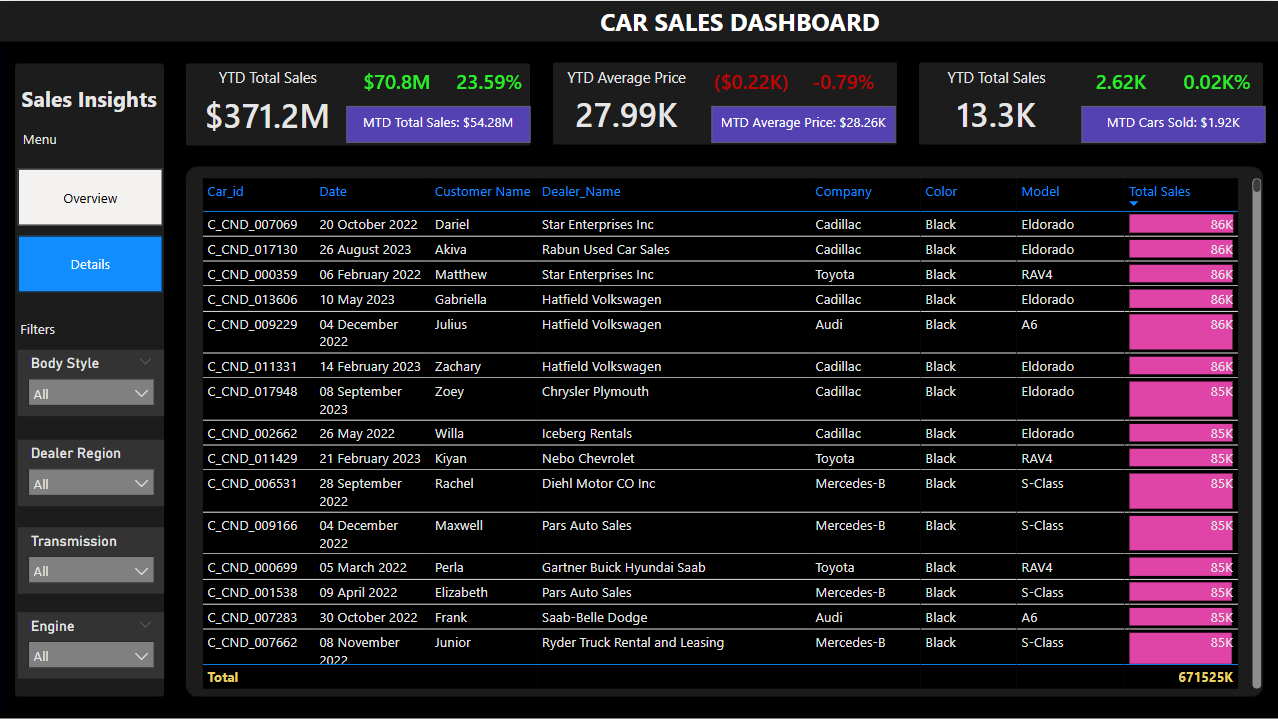

The dashboard page shown, as its layout file describes it:
{"tool":"powerbi","page":{"name":"Details","canvas":[1280,720],"ordinal":1},"visuals":[{"type":"card","title":"YTD Total Sales","fields":{"Values":["car_data.YTD Total Sales"]},"box":[192.2,66.6,152.5,75.6],"z":0},{"type":"card","fields":{"Values":["car_data.Sales Difference"]},"box":[344.6,66.3,106,31.8],"z":1000},{"type":"card","fields":{"Values":["car_data.YOY Sales Growth"]},"box":[450.6,66.3,80.8,31.8],"z":2000},{"type":"card","fields":{"Values":["car_data.MTD KPI"]},"box":[347.2,104.7,184.2,37.1],"z":3000},{"type":"card","title":"YTD Average Price","fields":{"Values":["car_data.YTD Average Price"]},"box":[551.3,66.3,152.4,75.5],"z":4000},{"type":"card","fields":{"Values":["car_data.Average Price Difference"]},"box":[703.8,66.3,96.7,31.8],"z":5000},{"type":"card","fields":{"Values":["car_data.YOY Average Price Growth"]},"box":[791.2,66.3,106,31.8],"z":6000},{"type":"card","fields":{"Values":["car_data.MTD Average Price KPI"]},"box":[713,104.7,184.2,37.1],"z":7000},{"type":"card","title":"YTD Total Sales","fields":{"Values":["car_data.YTD Cars Sold"]},"box":[921.1,66.3,152.4,75.5],"z":8000},{"type":"card","fields":{"Values":["car_data.Cars Sold Difference"]},"box":[1073.5,66.3,96.7,31.8],"z":9000},{"type":"card","fields":{"Values":["car_data.YOY Car sold Growth"]},"box":[1170.3,66.3,96.7,31.8],"z":10000},{"type":"card","fields":{"Values":["car_data.MTD Cars Sold KPI"]},"box":[1082.8,104.7,184.2,37.1],"z":11000},{"type":"textbox","box":[596.8,0,464.8,42.4],"z":12000},{"type":"slicer","fields":{"Values":["car_data.Body Style"]},"box":[18.2,348.6,146.5,66.6],"z":13000},{"type":"slicer","fields":{"Values":["car_data.Dealer_Name"]},"box":[19.4,438.2,146.5,66.6],"z":14000},{"type":"slicer","fields":{"Values":["car_data.Transmission"]},"box":[18.2,526.6,146.5,66.6],"z":15000},{"type":"slicer","fields":{"Values":["car_data.Engine"]},"box":[18.2,611.3,146.5,66.6],"z":16000},{"type":"textbox","box":[15.7,313.5,77.5,35.1],"z":17000},{"type":"tableEx","fields":{"Values":["car_data.Car_id","car_data.Date","car_data.Customer Name","car_data.Dealer_Name","car_data.Company","car_data.Color","car_data.Model","car_data.Total Sales"]},"box":[197.3,171.9,1070.1,520.5],"z":18000},{"type":"textbox","box":[16.9,77.5,168.3,81.1],"z":19000},{"type":"textbox","box":[19.4,123.5,53.3,35.1],"z":20000},{"type":"pageNavigator","box":[18.2,167,145.3,124.7],"z":22000}]}

Visuals, with their boxes in screenshot pixels (x1, y1, x2, y2), scaled from the page's 1280x720 canvas onto the 1278x720 screenshot:
"YTD Total Sales" card: x1=192 y1=67 x2=344 y2=142
card - car_data.Sales Difference: x1=344 y1=66 x2=450 y2=98
card - car_data.YOY Sales Growth: x1=450 y1=66 x2=531 y2=98
card - car_data.MTD KPI: x1=347 y1=105 x2=531 y2=142
"YTD Average Price" card: x1=550 y1=66 x2=703 y2=142
card - car_data.Average Price Difference: x1=703 y1=66 x2=799 y2=98
card - car_data.YOY Average Price Growth: x1=790 y1=66 x2=896 y2=98
card - car_data.MTD Average Price KPI: x1=712 y1=105 x2=896 y2=142
"YTD Total Sales" card: x1=920 y1=66 x2=1072 y2=142
card - car_data.Cars Sold Difference: x1=1072 y1=66 x2=1168 y2=98
card - car_data.YOY Car sold Growth: x1=1168 y1=66 x2=1265 y2=98
card - car_data.MTD Cars Sold KPI: x1=1081 y1=105 x2=1265 y2=142
textbox: x1=596 y1=0 x2=1060 y2=42
slicer - car_data.Body Style: x1=18 y1=349 x2=164 y2=415
slicer - car_data.Dealer_Name: x1=19 y1=438 x2=166 y2=505
slicer - car_data.Transmission: x1=18 y1=527 x2=164 y2=593
slicer - car_data.Engine: x1=18 y1=611 x2=164 y2=678
textbox: x1=16 y1=314 x2=93 y2=349
tableEx - car_data.Car_id x car_data.Date: x1=197 y1=172 x2=1265 y2=692
textbox: x1=17 y1=78 x2=185 y2=159
textbox: x1=19 y1=124 x2=73 y2=159
pageNavigator: x1=18 y1=167 x2=163 y2=292
